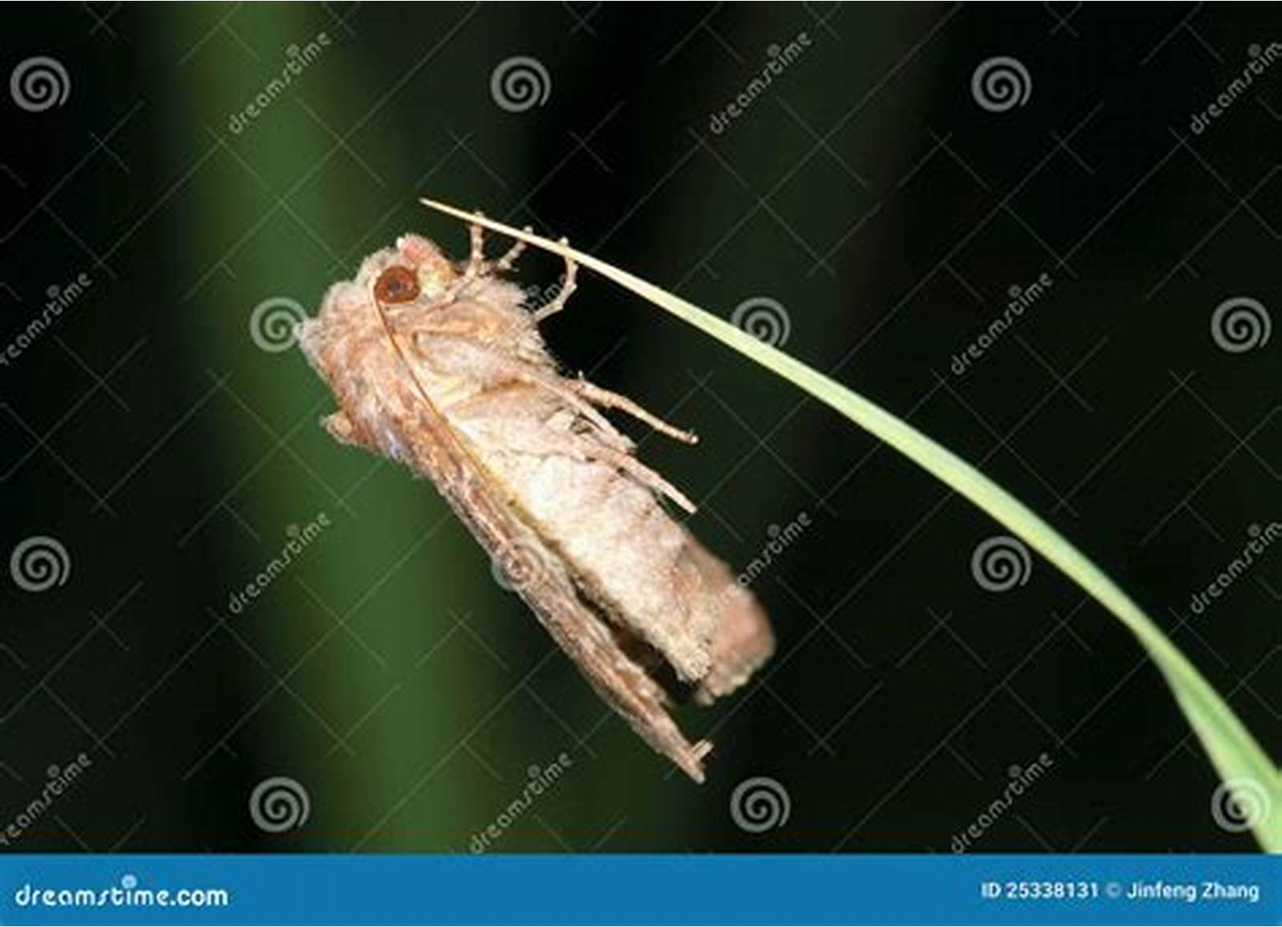Noctuidae: (289, 223, 782, 792)
